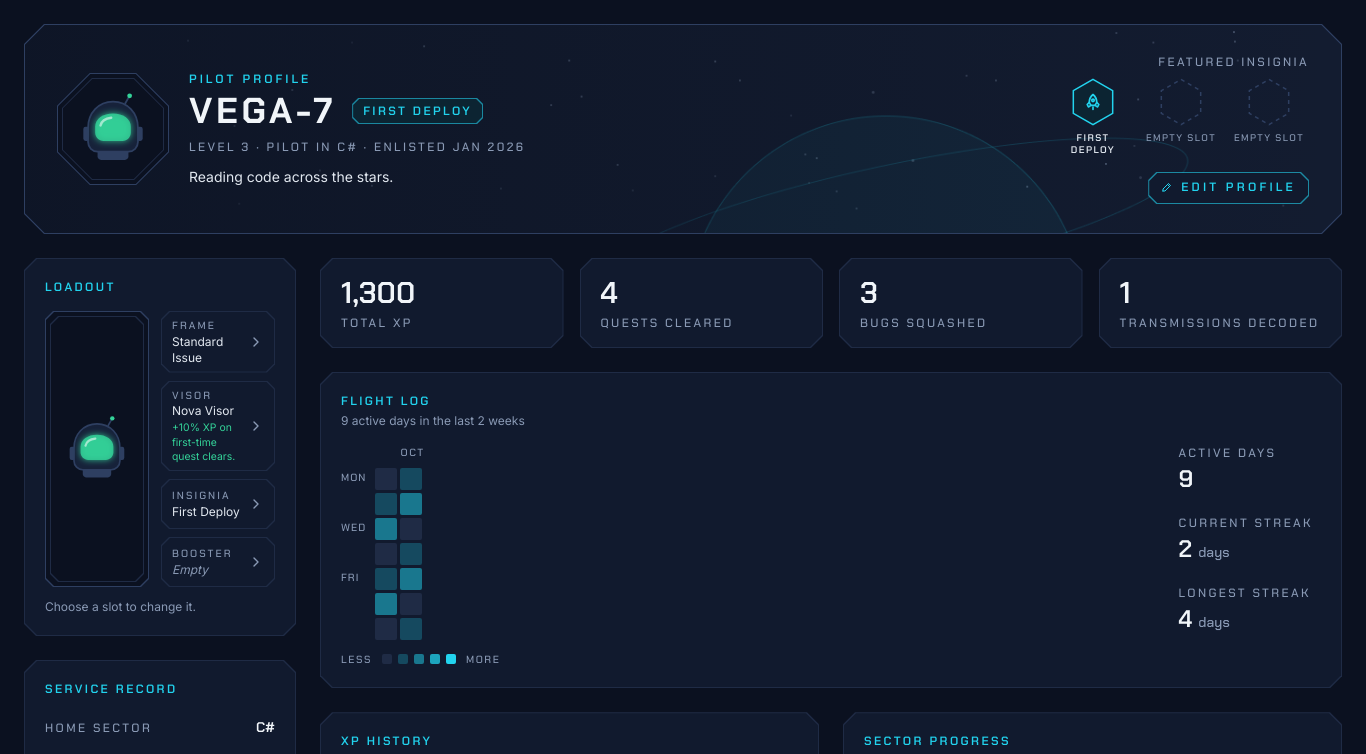
Test: ProfilePage › activating a booster updates the page and the nav
expect the heading "Vega-7" is shown: met, box top-left (189, 91), bottom-right (336, 131)
Click the button "Booster Empty" at x=218, y=562, box top-left (161, 537), bottom-right (275, 587)
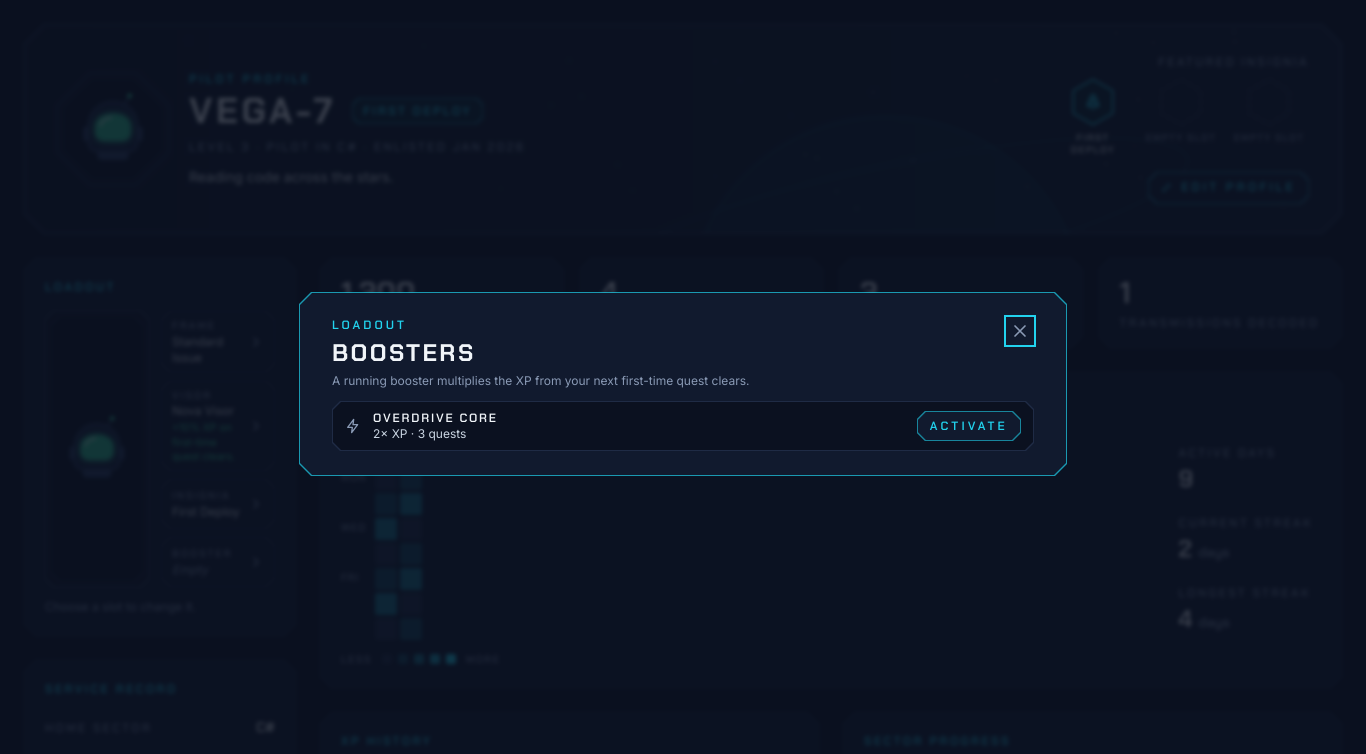
Click the button "Activate" at x=969, y=426, box top-left (917, 411), bottom-right (1021, 441)
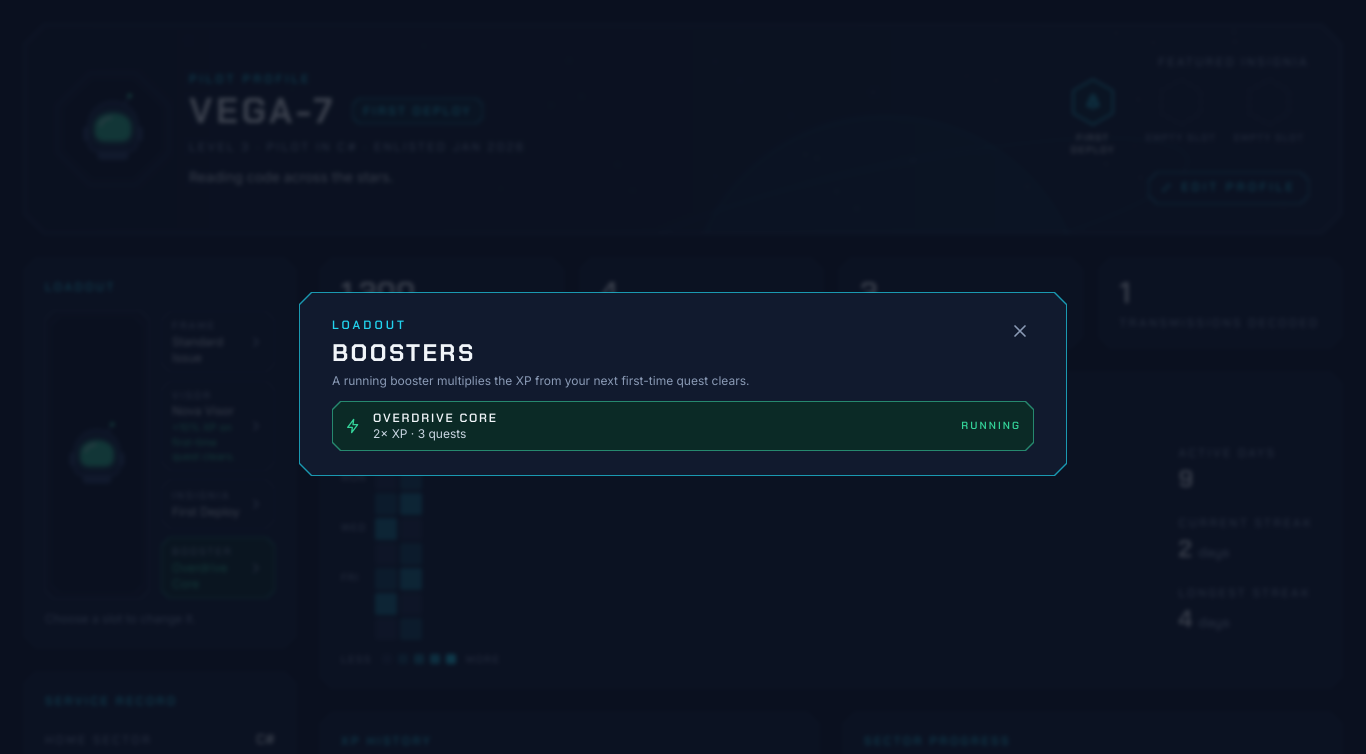
expect the text "Running" is shown: met, box top-left (961, 418), bottom-right (1021, 434)
